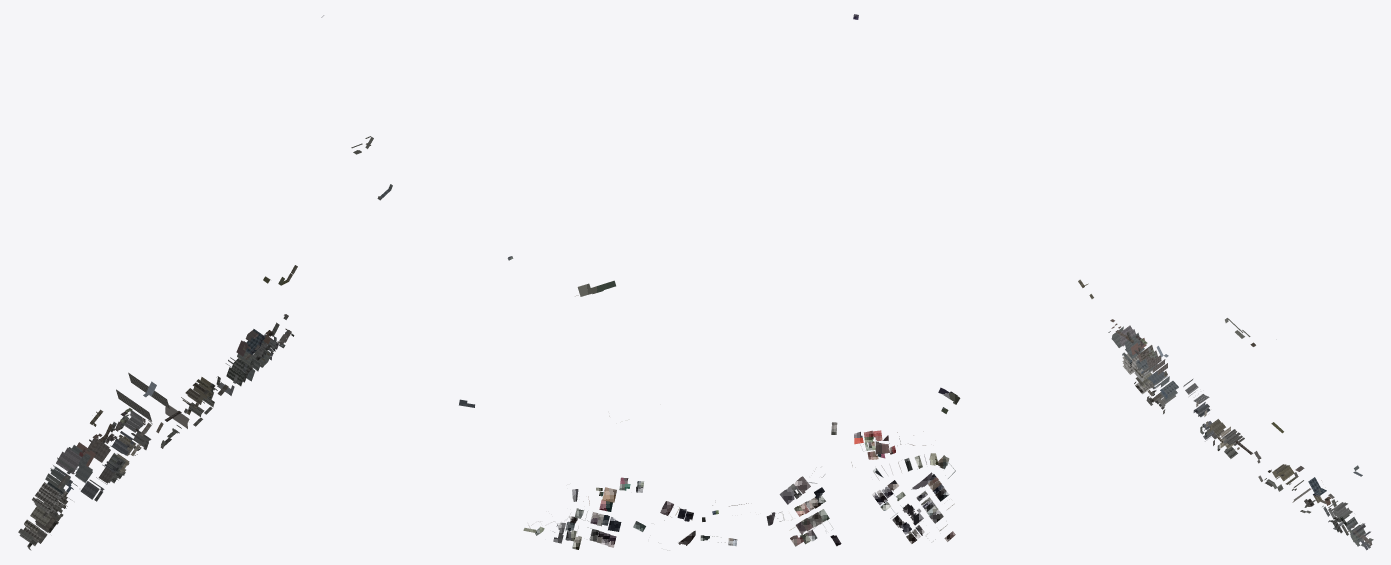
The model's file is tile_LOD4_r2_c3.glb.
3 views of the same model, side by side, from view 1: azimuth 30°, elevation 25°; view 2: azimuth 150°, elevation 25°; view 3: azimuth 270°, elevation 25° (orthographic). The views are drawn at different scales.
Bounding box in the file's own units: 600 × 636 × 470.
400 materials, 400 textured.
